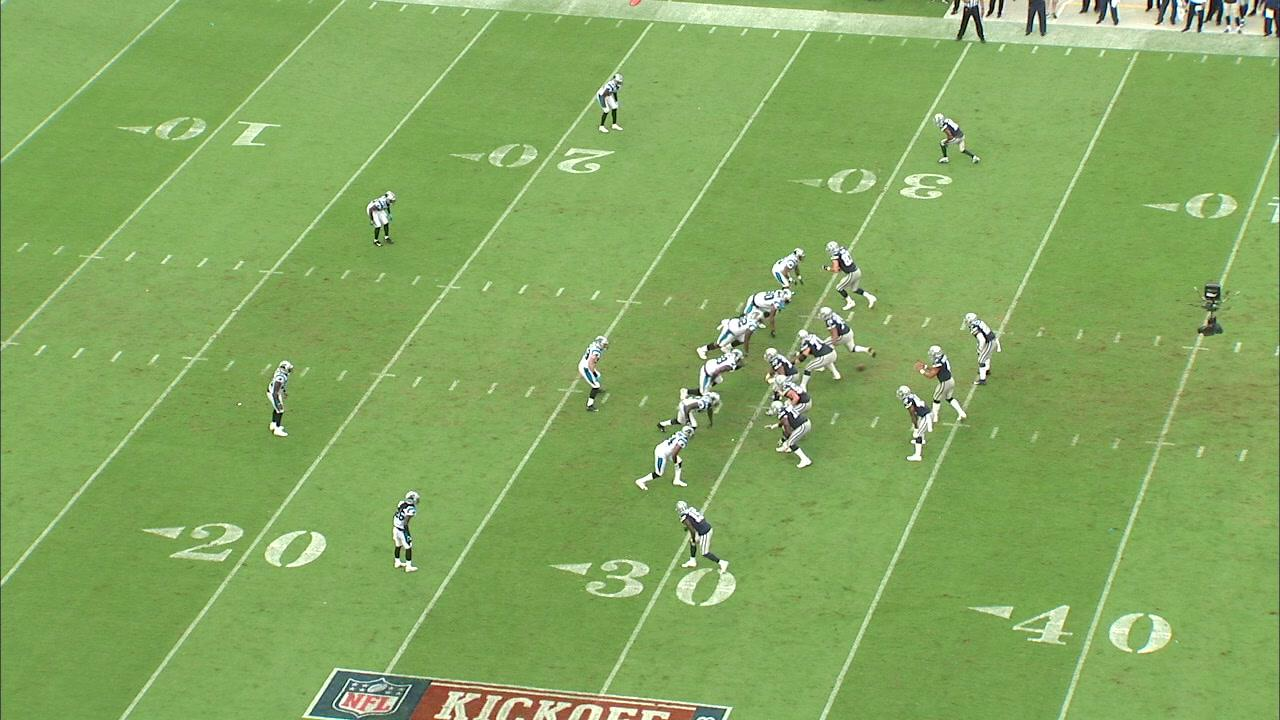defense: (633, 423, 698, 493), (693, 308, 767, 355), (388, 487, 423, 573), (654, 389, 724, 432), (264, 358, 298, 442), (694, 346, 749, 391), (742, 288, 792, 337), (579, 337, 608, 415), (594, 71, 625, 140), (364, 187, 396, 249), (771, 246, 807, 288)
oline: (820, 304, 878, 361), (795, 330, 847, 393), (769, 401, 809, 470), (763, 347, 798, 402), (774, 373, 812, 412)
qb: (919, 345, 967, 428)
skill: (672, 498, 728, 575), (821, 236, 876, 306), (896, 384, 934, 463), (930, 113, 981, 167), (967, 315, 998, 391)
